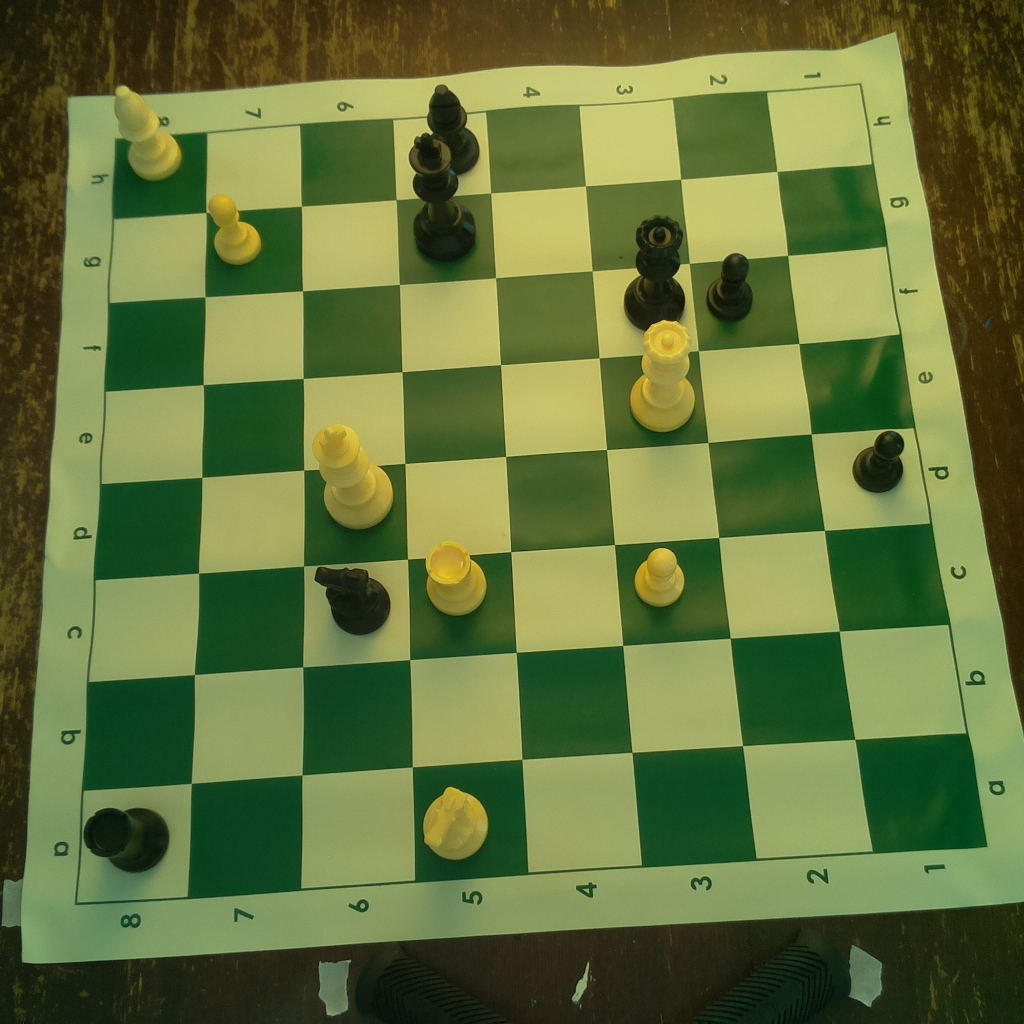black_bishop: (420, 82, 483, 174)
black_king: (401, 132, 481, 262)
black_knight: (310, 554, 396, 639)
black_pawn: (705, 245, 760, 322), (854, 419, 910, 491)
black_queen: (623, 212, 688, 331)
black_rook: (76, 802, 175, 874)
file_a: (77, 734, 990, 904)
file_b: (81, 625, 970, 793)
file_c: (85, 525, 950, 684)
file_d: (93, 427, 933, 579)
file_e: (101, 335, 920, 483)
file_f: (105, 247, 903, 391)
file_g: (108, 165, 889, 304)
file_h: (110, 84, 875, 221)
outline: (73, 84, 988, 904)
rank_1: (768, 84, 988, 853)
rank_2: (672, 88, 875, 862)
rank_3: (580, 97, 758, 867)
rank_4: (488, 102, 642, 873)
rank_5: (393, 112, 528, 882)
rank_6: (299, 118, 418, 886)
rank_7: (186, 126, 302, 895)
rank_8: (75, 131, 210, 905)
white_bishop: (107, 83, 186, 183)
white_king: (305, 415, 397, 531)
white_knight: (416, 782, 489, 862)
white_pawn: (205, 187, 267, 269), (628, 541, 690, 609)
white_queen: (623, 317, 698, 436)
white_rook: (418, 538, 492, 618)
